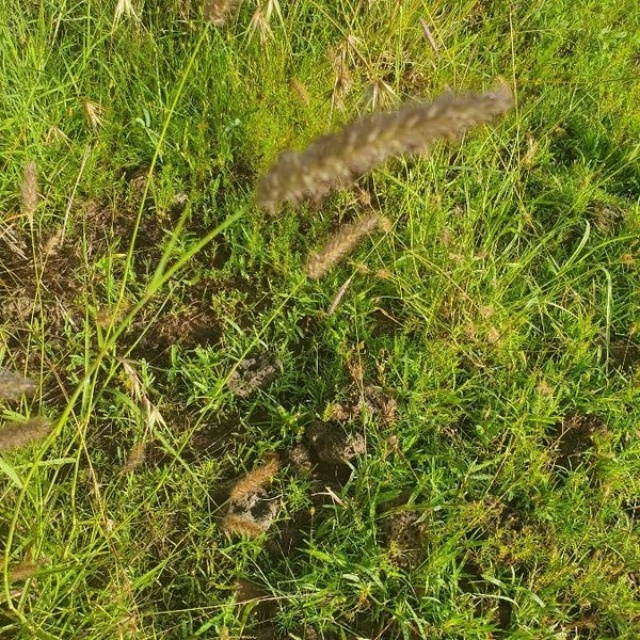obstacle: (93, 38, 562, 480)
